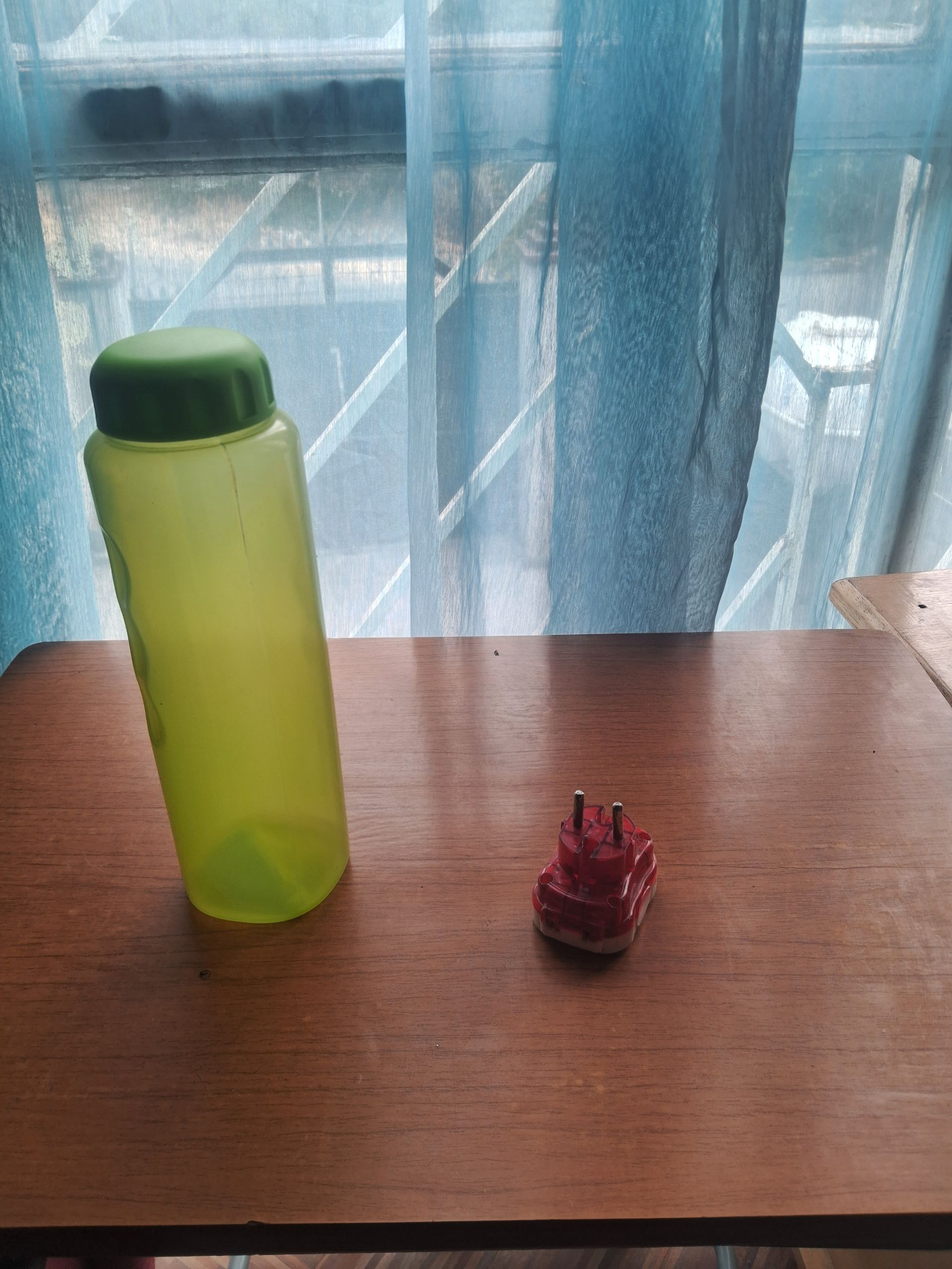Multi_adapter: (523, 785, 667, 961)
Water_bottle: (76, 318, 361, 932)
